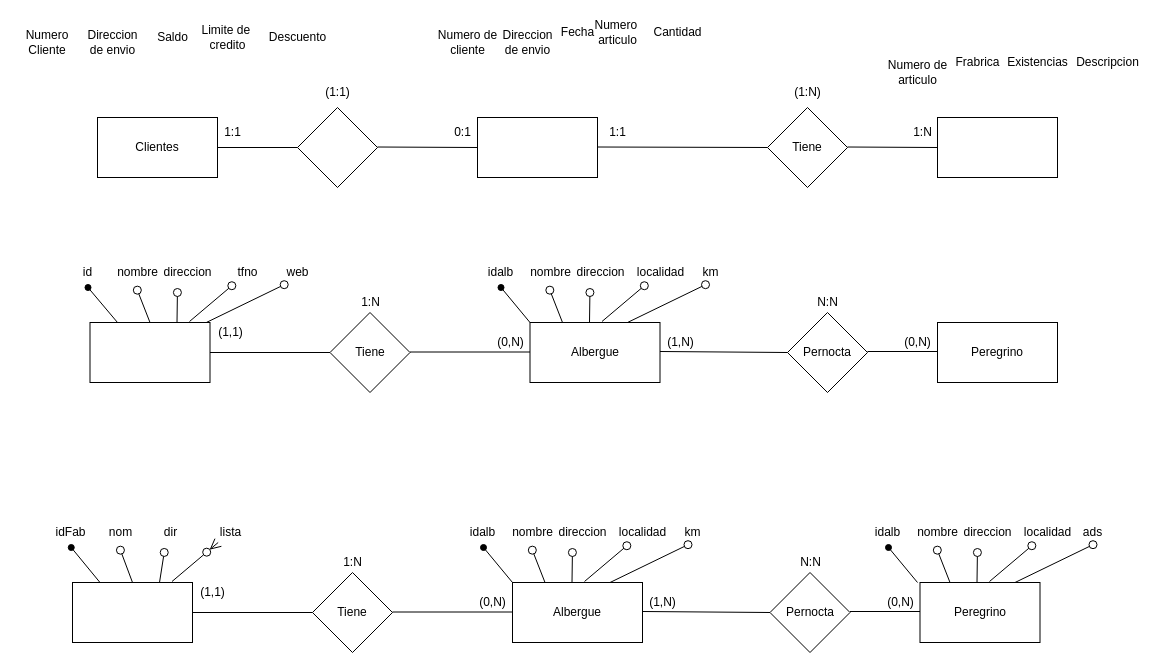
This 1164x670 diagram has some shape labels left out. The shapes that lost their labels are listed below. From the top down, each one's centre as x and y in pixels, then its label:
At pixel 337 147: "Hace".
At pixel 537 147: "Pedidos".
At pixel 997 147: "Articulos".
At pixel 149 352: "Municipio".
At pixel 132 612: "Fabricante".
